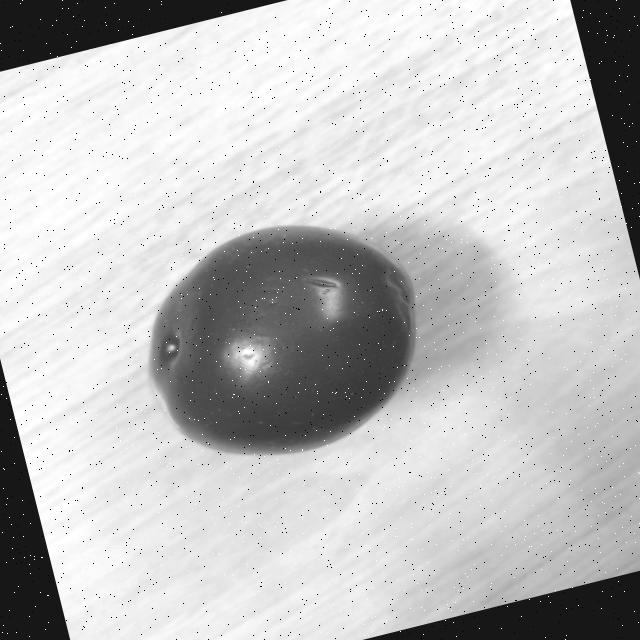Ripe: (120, 190, 450, 487)
